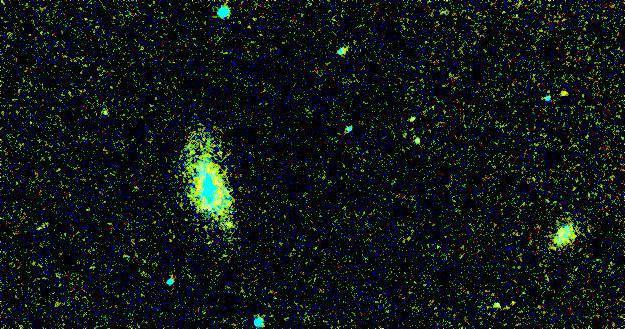star: (552, 77, 582, 107)
